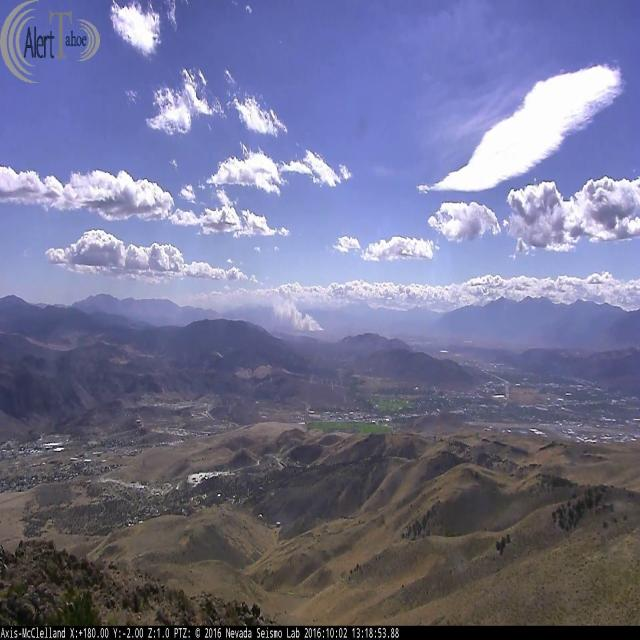smoke: (273, 300, 324, 332)
